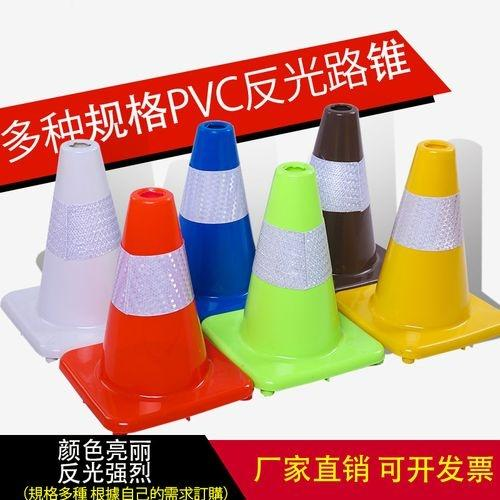cone_barrel: (94, 185, 217, 402), (366, 139, 481, 341), (238, 165, 350, 365), (29, 137, 123, 337), (174, 125, 256, 302), (305, 105, 379, 275)
